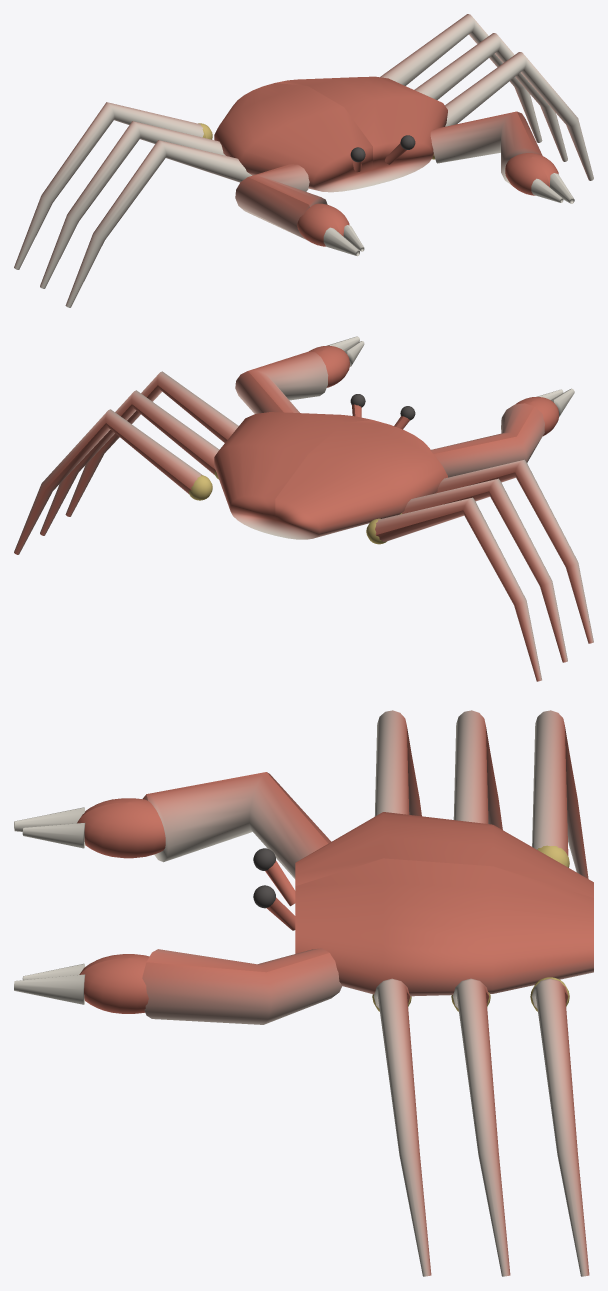
Rendered from crab.glb.
3 views of the same model, one above another, from view 1: azimuth 30°, elevation 25°; view 2: azimuth 150°, elevation 25°; view 3: azimuth 270°, elevation 25° (orthographic). The views are drawn at different scales.
Visible parts, largest first — view 1: Carapace, Claw_R, Claw_L, Leg_L1, Leg_L3, Leg_L2, Leg_R1, Leg_R3, Leg_R2; view 2: Carapace, Claw_R, Claw_L, Leg_R3, Leg_L3, Leg_L2, Leg_L1, Leg_R2, Leg_R1; view 3: Carapace, Claw_R, Claw_L, Leg_R3, Leg_R2, Leg_R1, Leg_L3, Leg_L2, Leg_L1.
Part boxes in pixels (x1,y1,x2,y2): Carapace: (214, 76, 447, 192); Claw_R: (430, 111, 574, 203); Claw_L: (235, 164, 364, 256); Leg_L1: (65, 140, 251, 307); Leg_L3: (14, 102, 212, 269); Leg_L2: (40, 121, 225, 288); Leg_R1: (445, 52, 593, 180); Leg_R3: (380, 14, 542, 142); Leg_R2: (414, 33, 567, 161); Carapace: (214, 394, 447, 539); Claw_R: (235, 336, 364, 413); Claw_L: (430, 388, 574, 477); Leg_R3: (14, 409, 212, 554); Leg_L3: (366, 497, 541, 681); Leg_L2: (400, 478, 567, 662); Leg_L1: (435, 459, 593, 643); Leg_R2: (40, 390, 219, 535); Leg_R1: (65, 371, 238, 516); Carapace: (253, 812, 593, 996); Claw_R: (14, 948, 342, 1024); Claw_L: (14, 772, 331, 879); Leg_R3: (530, 977, 589, 1276); Leg_R2: (451, 978, 510, 1276); Leg_R1: (372, 978, 431, 1276); Leg_L3: (532, 710, 588, 878); Leg_L2: (453, 710, 502, 829); Leg_L1: (374, 710, 421, 816).
Size of the model in its own units: 2.12 by 0.5971 by 1.32.
